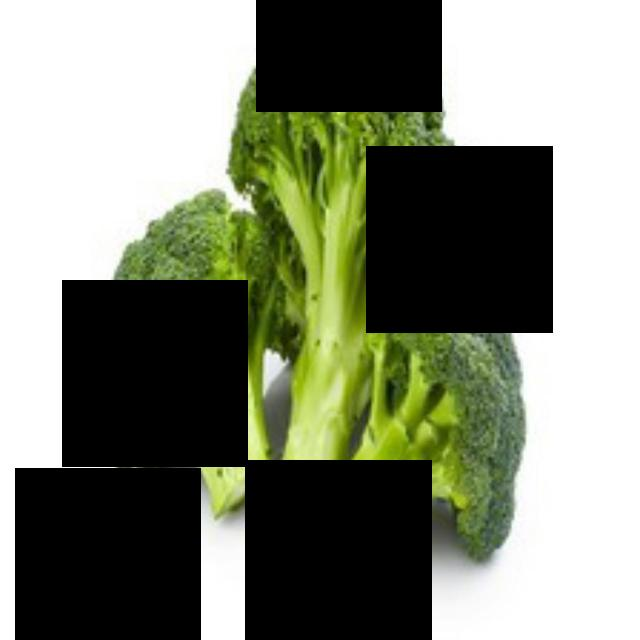broccoli: (211, 8, 465, 504), (327, 254, 551, 567), (105, 195, 304, 514)
